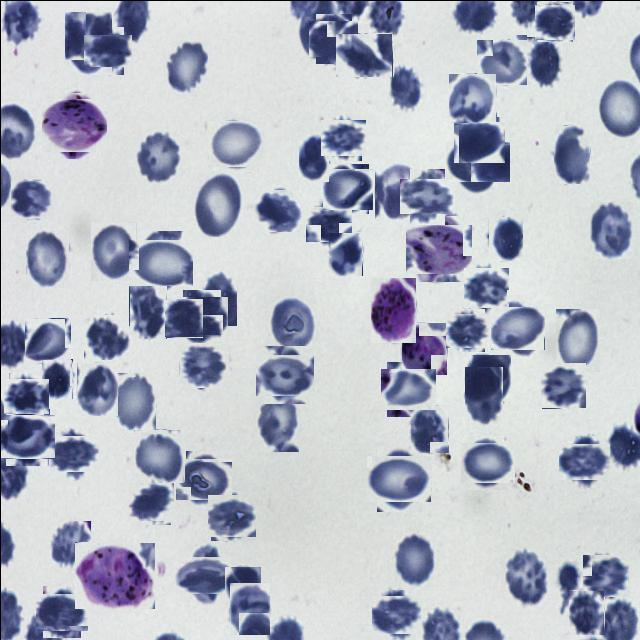difficult: (74, 541, 155, 608), (44, 95, 103, 155)
gametocyte: (370, 276, 416, 342)
red blood cell: (192, 169, 244, 238), (132, 234, 188, 290), (371, 451, 427, 506), (64, 10, 112, 74), (132, 428, 184, 482), (555, 308, 599, 371), (209, 117, 262, 169), (450, 135, 503, 187), (90, 221, 136, 280), (374, 160, 419, 220), (133, 127, 181, 183), (113, 371, 156, 432), (25, 228, 69, 287), (502, 549, 550, 603), (589, 200, 633, 258), (254, 393, 298, 451), (334, 32, 392, 76), (1, 412, 52, 462), (179, 549, 229, 599), (478, 36, 528, 86), (259, 349, 309, 399), (178, 454, 228, 503), (269, 296, 312, 352), (493, 303, 542, 352), (448, 72, 496, 122), (164, 39, 208, 93), (392, 532, 435, 586), (462, 438, 510, 486), (383, 364, 431, 412), (76, 361, 118, 415), (456, 118, 502, 166), (464, 366, 502, 424), (553, 124, 590, 183), (229, 581, 270, 634), (178, 342, 225, 388), (253, 187, 300, 233), (83, 314, 131, 359), (324, 165, 370, 211), (24, 317, 70, 363), (464, 354, 510, 400), (38, 588, 84, 634), (540, 362, 586, 408), (178, 292, 224, 338), (208, 493, 254, 538), (128, 284, 166, 338), (404, 174, 449, 218), (582, 552, 627, 596), (201, 269, 236, 325), (562, 439, 606, 483), (51, 432, 95, 476), (374, 592, 418, 636), (50, 520, 90, 568), (526, 36, 562, 88), (410, 404, 448, 452), (312, 16, 354, 59), (307, 202, 349, 244), (465, 266, 507, 308), (130, 480, 172, 522), (322, 116, 363, 158), (86, 30, 127, 70), (5, 376, 46, 416), (568, 589, 604, 634), (12, 180, 52, 220), (388, 64, 422, 110), (447, 310, 486, 349), (488, 216, 522, 260), (328, 231, 362, 275), (535, 2, 573, 40), (164, 298, 202, 336), (298, 133, 328, 181), (224, 566, 260, 604), (41, 358, 72, 398)
trophozoite: (409, 219, 467, 277), (401, 321, 446, 374)
